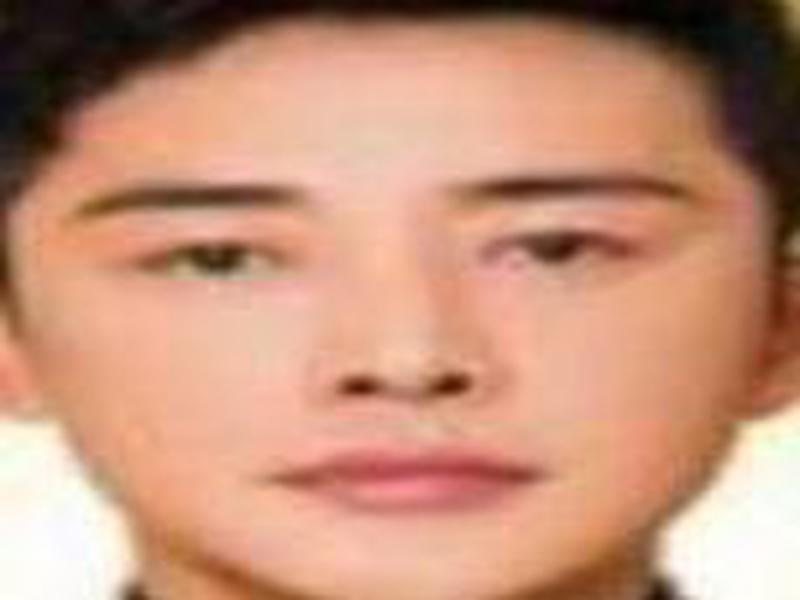without_mask: (6, 112, 800, 600)
